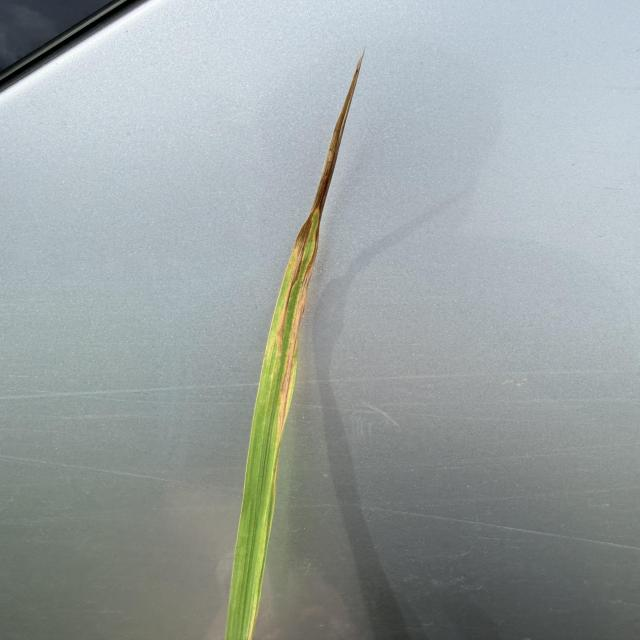Chay bia la: (273, 47, 365, 439)
